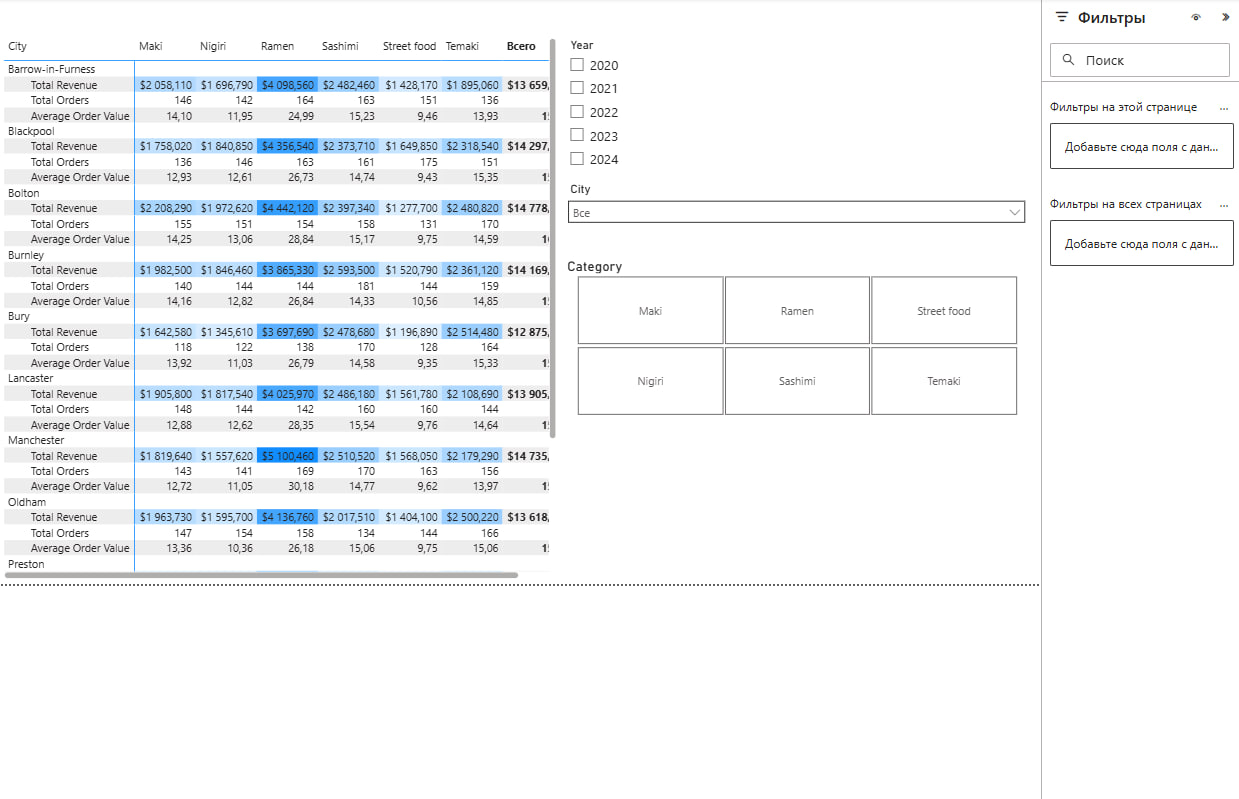

This screenshot's page, from the dashboard's own definition file:
{"tool":"powerbi","page":{"name":"Страница 3","canvas":[1280,720],"ordinal":2},"visuals":[{"type":"pivotTable","fields":{"Rows":["Tasty Sushi restaurant.City"],"Columns":["Tasty Sushi restaurant.Category"],"Values":["_Measures.Total Revenue","_Measures.Total Orders","_Measures.Average Order Value"]},"box":[0,44.3,688.6,675],"z":1},{"type":"slicer","fields":{"Values":["Tasty Sushi restaurant.Year"]},"box":[688.6,44.3,581.6,177.1],"z":2},{"type":"slicer","fields":{"Values":["Tasty Sushi restaurant.City"]},"box":[688.6,221.3,581.6,72.5],"z":3},{"type":"slicer","fields":{"Values":["Tasty Sushi restaurant.Category"]},"box":[688.6,318.5,581.6,196.7],"z":4}]}

Visuals, with their boxes on the page's 1280x720 design canvas (x1, y1, x2, y2). These are canvas units, not pixel positions in the 1239x799 screenshot, which may show the page scaled, cropped or inside an application window:
pivotTable - Tasty Sushi restaurant.City x Tasty Sushi restaurant.Category: region(0, 44, 689, 719)
slicer - Tasty Sushi restaurant.Year: region(689, 44, 1270, 221)
slicer - Tasty Sushi restaurant.City: region(689, 221, 1270, 294)
slicer - Tasty Sushi restaurant.Category: region(689, 318, 1270, 515)
